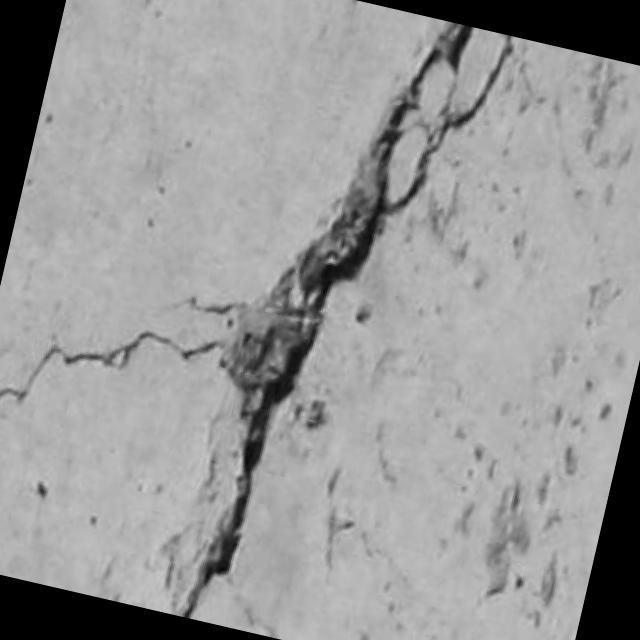crack: (0, 22, 513, 618), (172, 22, 513, 618), (0, 330, 219, 402)
